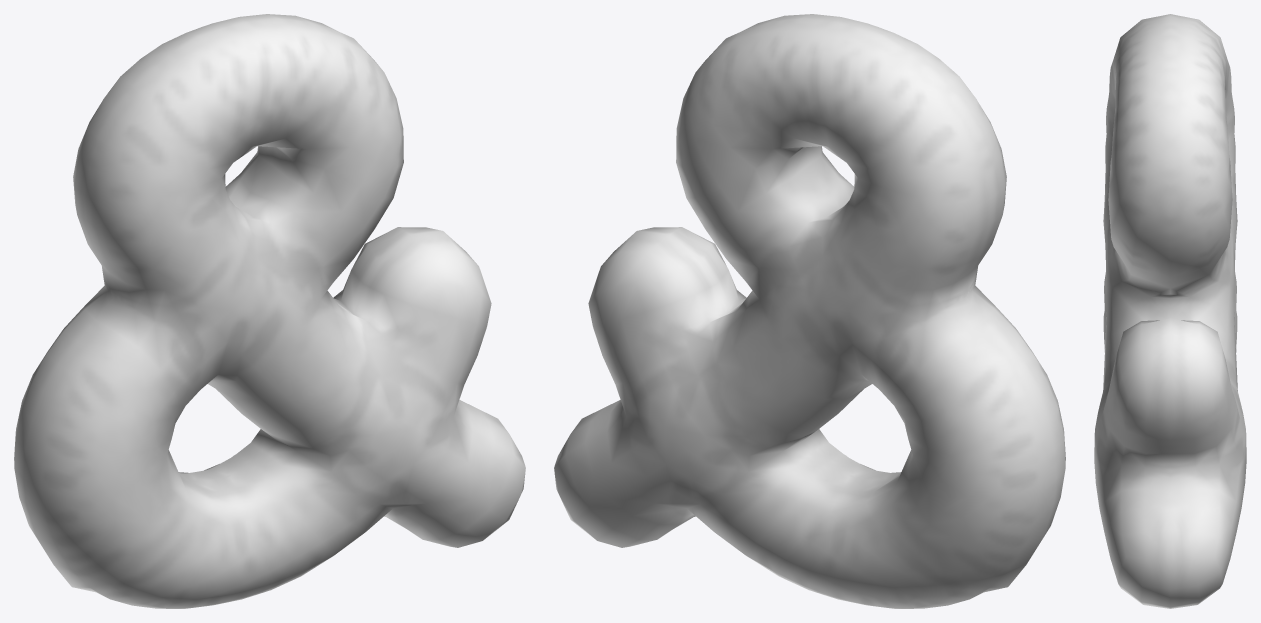
Rendered from LettersBalloon01_S3.FBX.
3 renders of one model, left to right at view 1: azimuth 30°, elevation 25°; view 2: azimuth 150°, elevation 25°; view 3: azimuth 270°, elevation 25°, orthographic. The views are drawn at different scales.
Visible parts, largest first — view 1: LettersBalloon01_S3; view 2: LettersBalloon01_S3; view 3: LettersBalloon01_S3.
Boxes of the visible parts, bbox=[...] form: LettersBalloon01_S3: bbox=[14, 14, 525, 608]; LettersBalloon01_S3: bbox=[554, 14, 1065, 608]; LettersBalloon01_S3: bbox=[1094, 14, 1246, 608].
Size of what is drawn, in the model's own units: 0.4432 by 0.49 by 0.1399.
